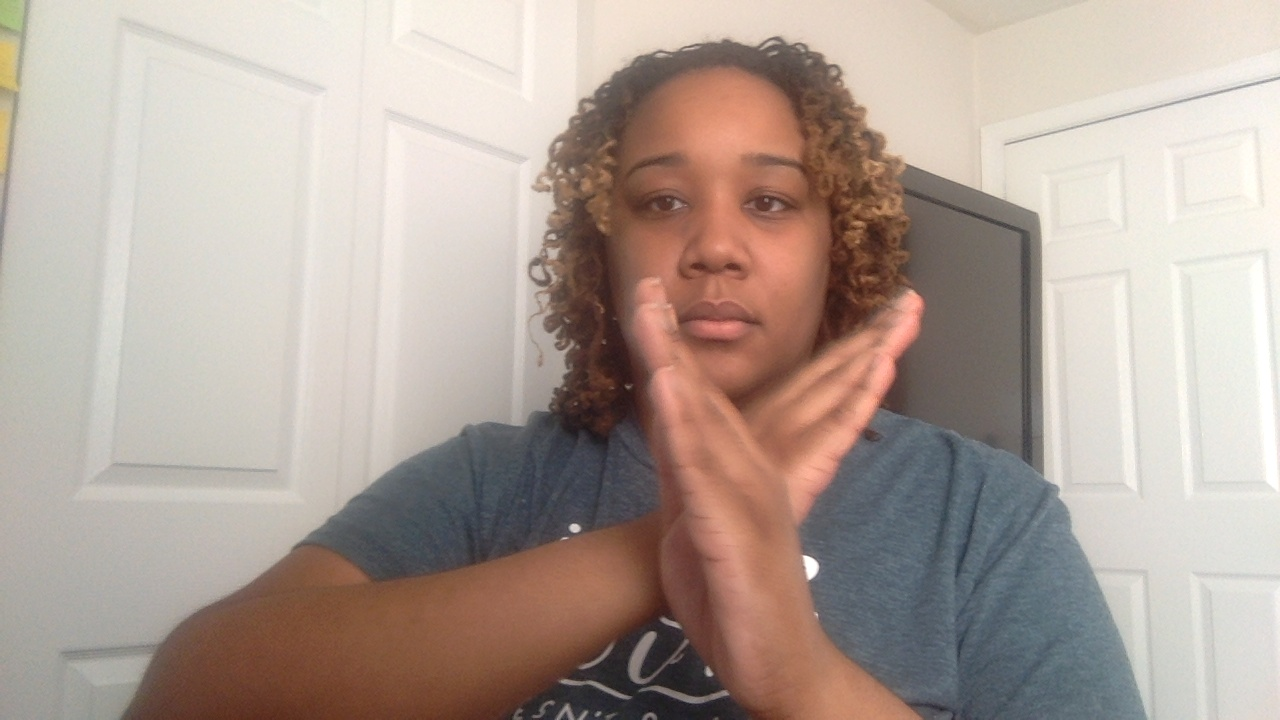quiet: (617, 273, 940, 720)
